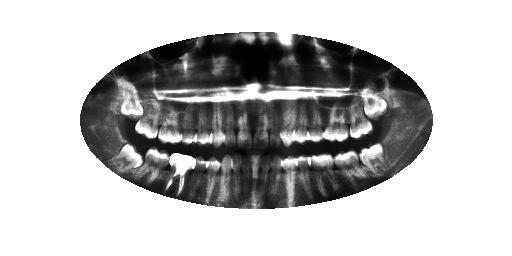i10healthy: (229, 152, 244, 203)
i11healthy: (218, 152, 235, 203)
i12healthy: (201, 152, 223, 205)
i13healthy: (187, 153, 212, 203)
i14healthy: (159, 150, 199, 195)
i15healthy: (135, 141, 173, 188)
i16healthy: (104, 144, 148, 177)
i1healthy: (356, 140, 391, 177)
i2healthy: (330, 147, 372, 191)
i3healthy: (307, 146, 342, 197)
i4healthy: (292, 153, 316, 204)
i5healthy: (279, 153, 300, 208)
i6healthy: (267, 152, 284, 203)
i7healthy: (257, 149, 271, 202)
i8healthy: (248, 149, 263, 204)
i9decay: (236, 149, 254, 201)
u10healthy: (219, 98, 237, 152)
u11healthy: (208, 96, 228, 153)
u12healthy: (191, 95, 214, 149)
u13healthy: (176, 96, 200, 150)
u14healthy: (158, 100, 183, 151)
u15healthy: (132, 94, 162, 141)
u16healthy: (112, 75, 144, 120)
u1healthy: (357, 82, 391, 124)
u2healthy: (346, 95, 376, 143)
u3healthy: (318, 97, 352, 145)
u4healthy: (304, 98, 324, 145)
u5healthy: (289, 99, 313, 146)
u6healthy: (277, 97, 299, 150)
u7healthy: (265, 96, 284, 149)
u8decay: (253, 97, 272, 151)
u9decay: (231, 97, 253, 150)
